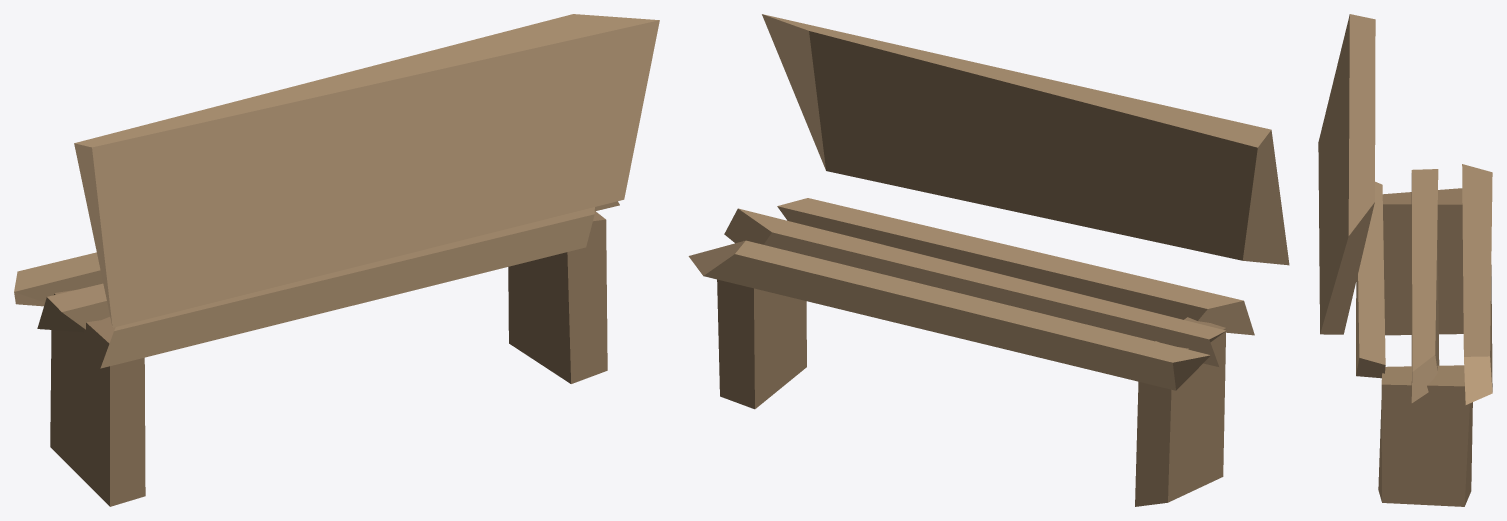
File: bench.fbx
The picture shows the model from 3 angles, left to right: view 1: azimuth 30°, elevation 25°; view 2: azimuth 150°, elevation 25°; view 3: azimuth 270°, elevation 25°; orthographic projection. The views are drawn at different scales.
Visible parts, largest first — view 1: Bench; view 2: Bench; view 3: Bench.
Boxes of the visible parts, x1,y1,x2,y2 form: Bench: (14,14,659,506); Bench: (688,14,1289,506); Bench: (1318,14,1492,506).
Bounding box in the file's own units: 1.75 × 1.1 × 0.5894.
